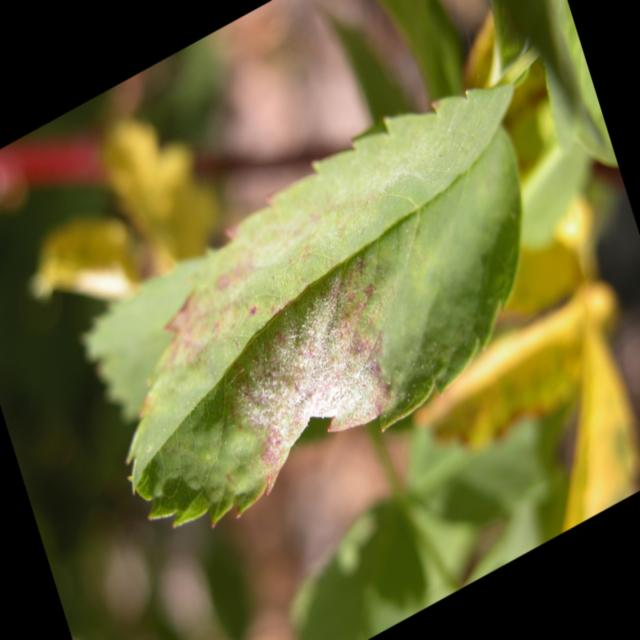Powdery Mildew: (221, 286, 411, 447)
